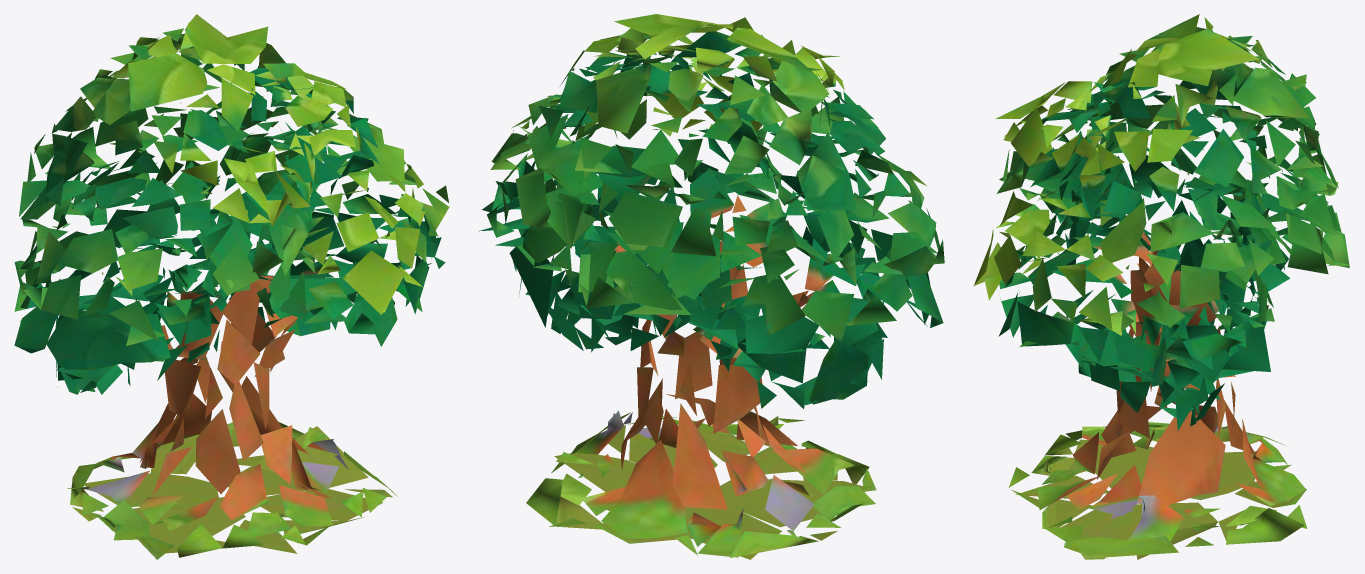
File: tree.glb
3 views of the same model, side by side, from view 1: azimuth 30°, elevation 25°; view 2: azimuth 150°, elevation 25°; view 3: azimuth 270°, elevation 25° (orthographic). The views are drawn at different scales.
Visible parts, largest first — view 1: Mesh_0; view 2: Mesh_0; view 3: Mesh_0.
Boxes of the visible parts, x1,y1,x2,y2 form: Mesh_0: (14,14,449,559); Mesh_0: (479,14,944,559); Mesh_0: (973,14,1349,559).
Size of the model in its own units: 1.86 by 1.93 by 1.43.
Materials: 1 (1 with a texture image).
